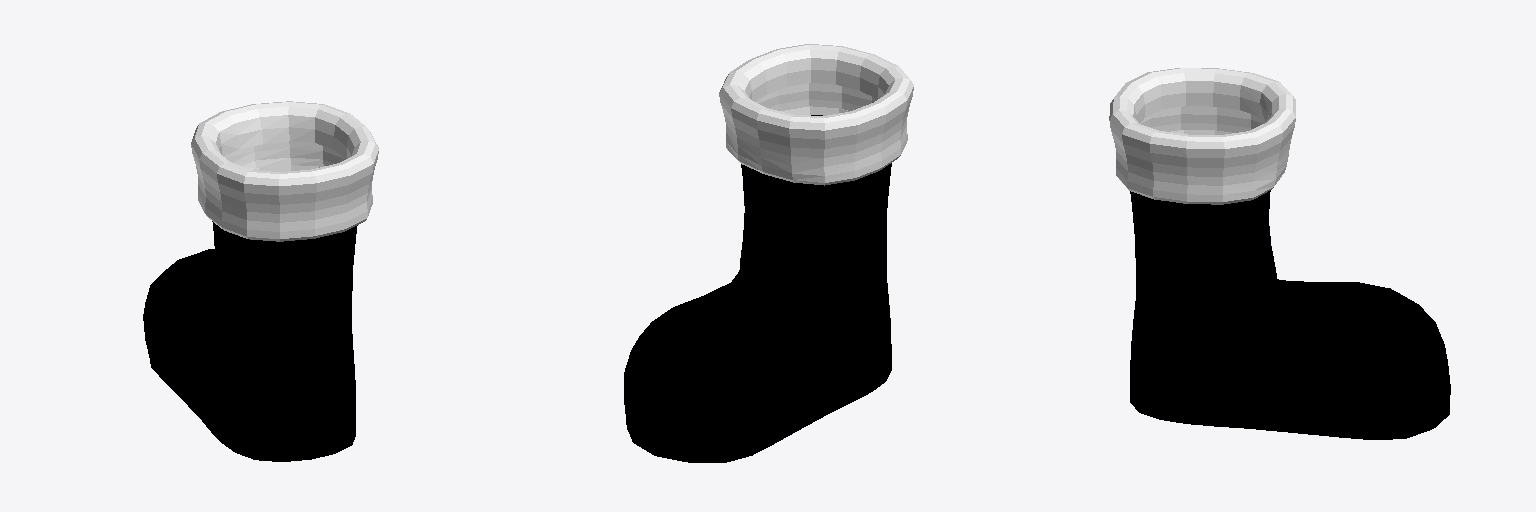
3 views of the same model, side by side, from view 1: azimuth 30°, elevation 25°; view 2: azimuth 150°, elevation 25°; view 3: azimuth 270°, elevation 25° (orthographic).
Parts seen in each view (by area): view 1: PieDer_santa.005; view 2: PieDer_santa.005; view 3: PieDer_santa.005.
Boxes of the visible parts, box(x1,y1,x2,y2) form: PieDer_santa.005: box(143, 101, 378, 461); PieDer_santa.005: box(624, 44, 913, 462); PieDer_santa.005: box(1109, 68, 1450, 439).
Size of the model in its own units: 3.2 by 5.09 by 5.3.
1 materials, 1 textured.